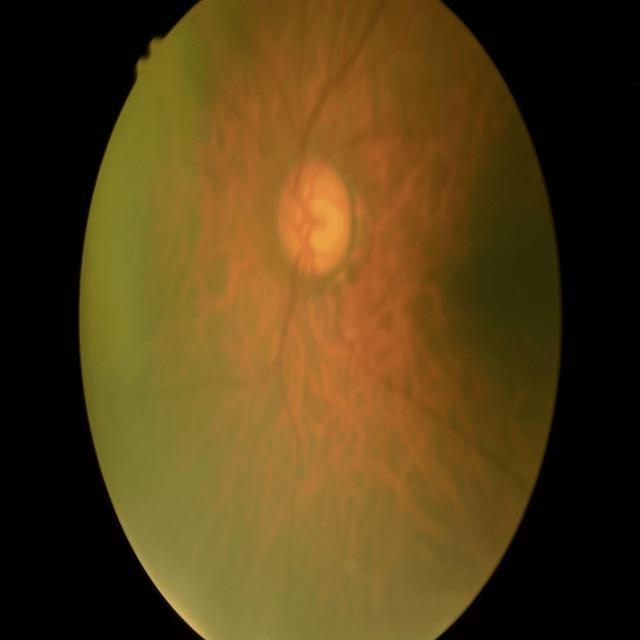cup: (294, 179, 342, 254)
disk: (277, 161, 353, 273)
